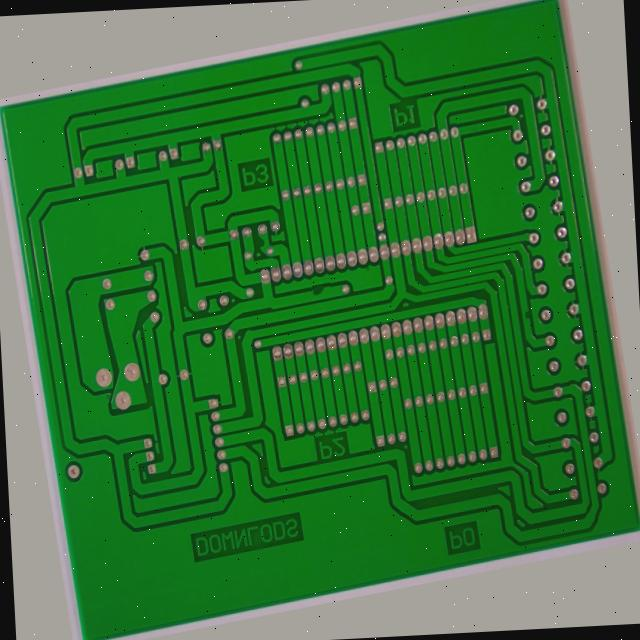mouse_bite: (312, 277, 331, 298), (258, 212, 272, 231), (540, 340, 554, 357)
